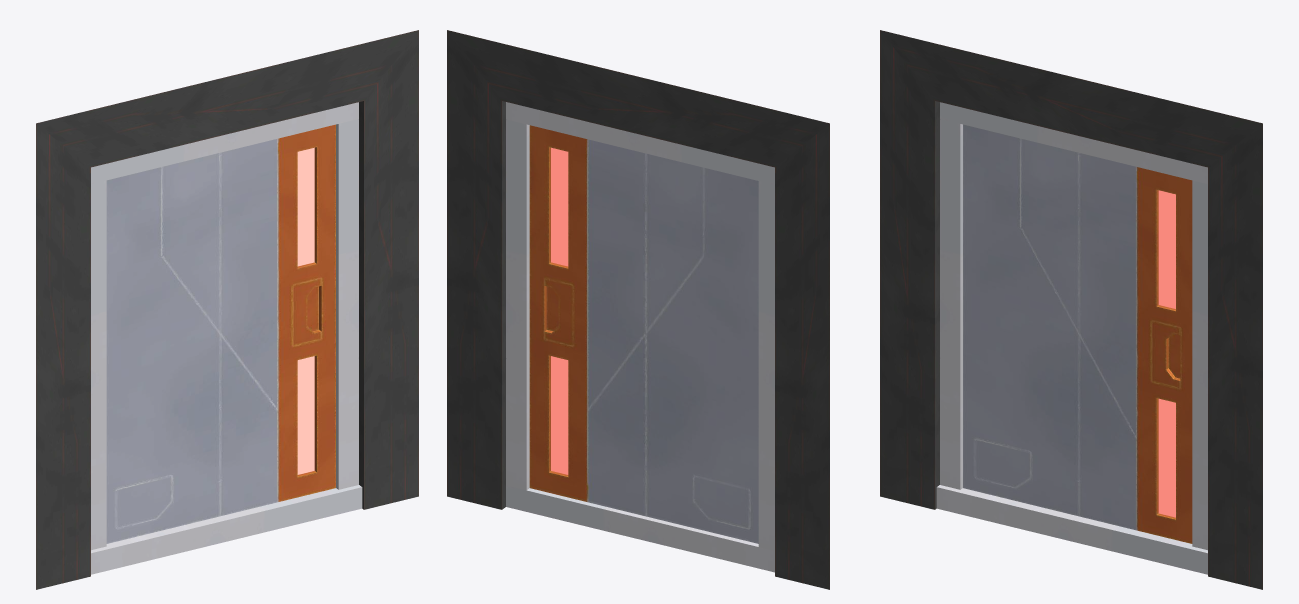
File: Door_Fram.glb
3 views of the same model, side by side, from view 1: azimuth 30°, elevation 25°; view 2: azimuth 150°, elevation 25°; view 3: azimuth 330°, elevation 25° (orthographic).
Visible parts, largest first — view 1: Door_Fram, Door_Door; view 2: Door_Fram, Door_Door; view 3: Door_Fram, Door_Door.
Boxes of the visible parts, left/top/right/bottom form: Door_Fram: left=36, top=30, right=418, bottom=589; Door_Door: left=106, top=124, right=335, bottom=543; Door_Fram: left=447, top=30, right=829, bottom=589; Door_Door: left=529, top=125, right=758, bottom=543; Door_Fram: left=880, top=30, right=1262, bottom=589; Door_Door: left=963, top=124, right=1192, bottom=543.
Size of the model in its own units: 2.79 by 3.24 by 0.2754.
Materials: 3 (2 with a texture image).
